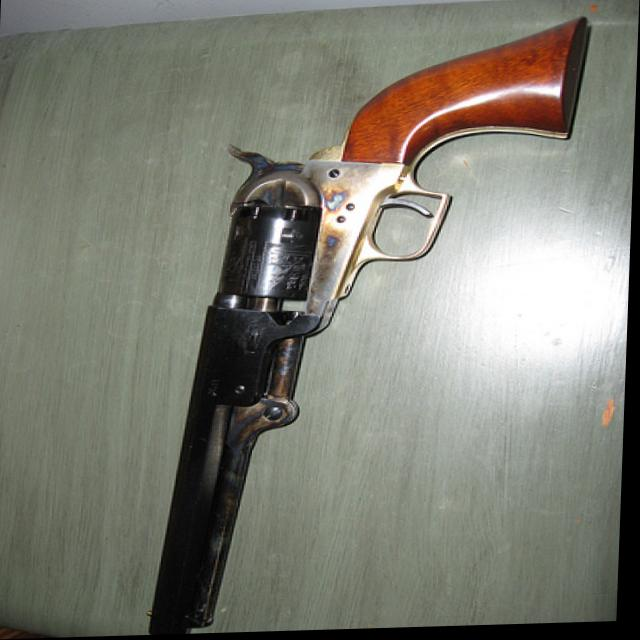handgun: (143, 18, 591, 632)
